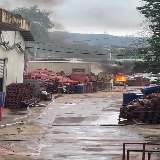fire: (115, 75, 127, 82)
